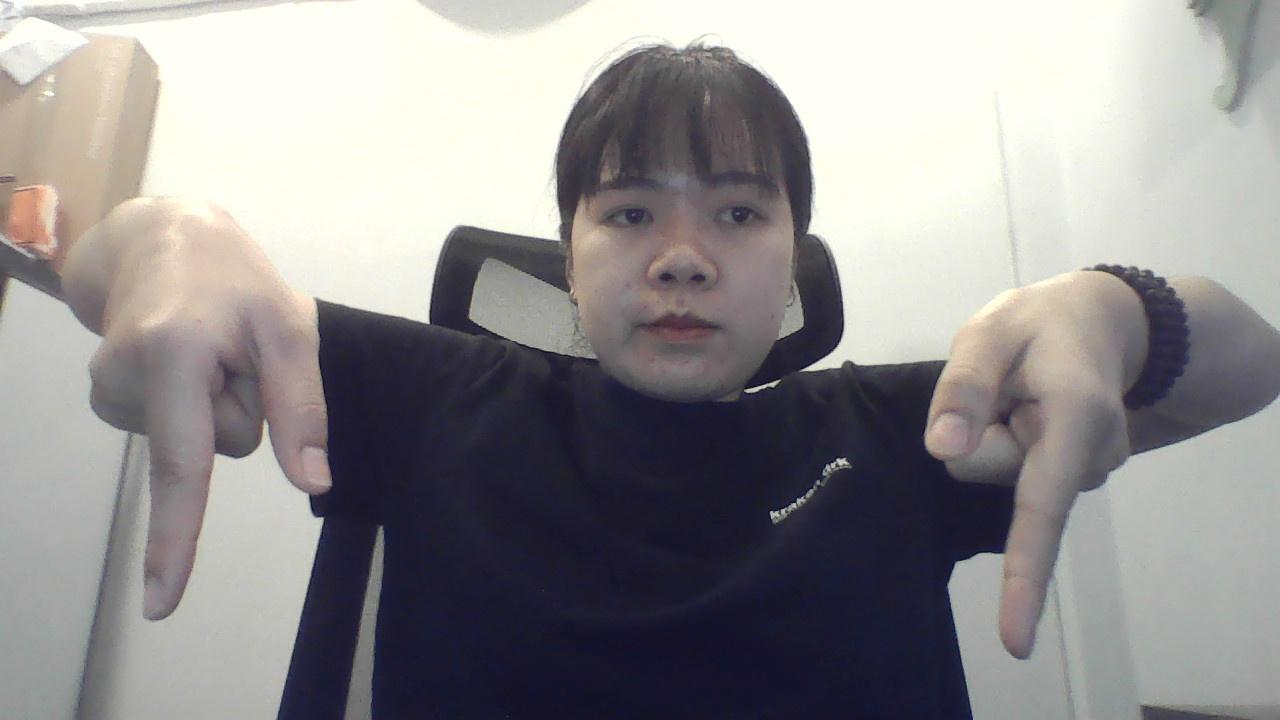Q: (77, 237, 335, 648), (912, 260, 1146, 671)
